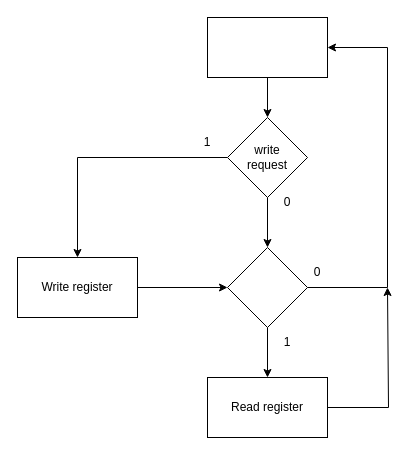
The diagram is 414 pixels wide and 455 high, and some of its shapes have lost their labels. Here are the shapes that lost their labels. From the top down, the box of each, then its label:
(206, 16, 328, 78): wait_request
(226, 246, 308, 328): read request
